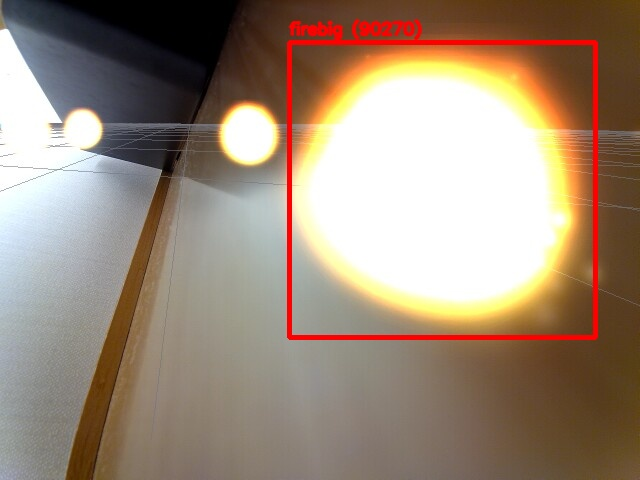firebig: (289, 42, 595, 337)
